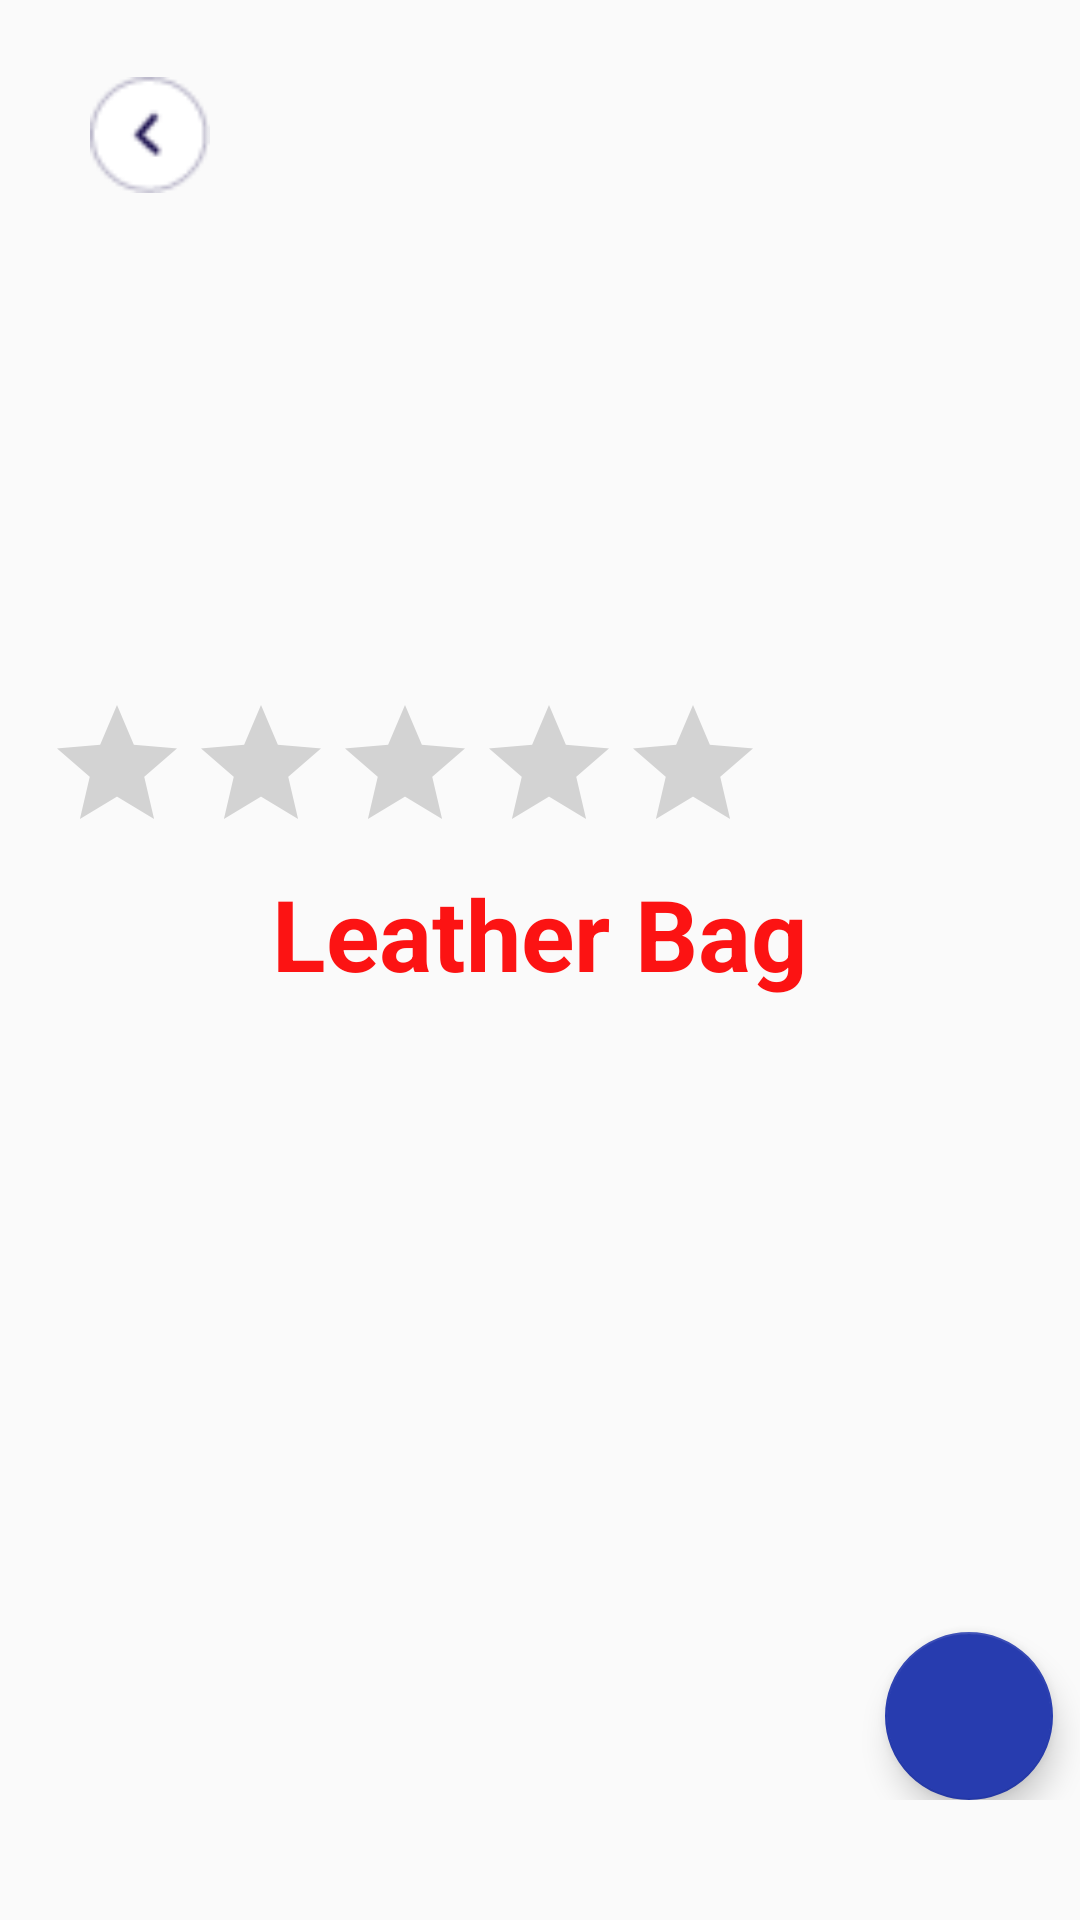

Point at icon controls on the screen. Image size 1080×1920, points as (x=x, y=y).
back left: (x=148, y=135)
